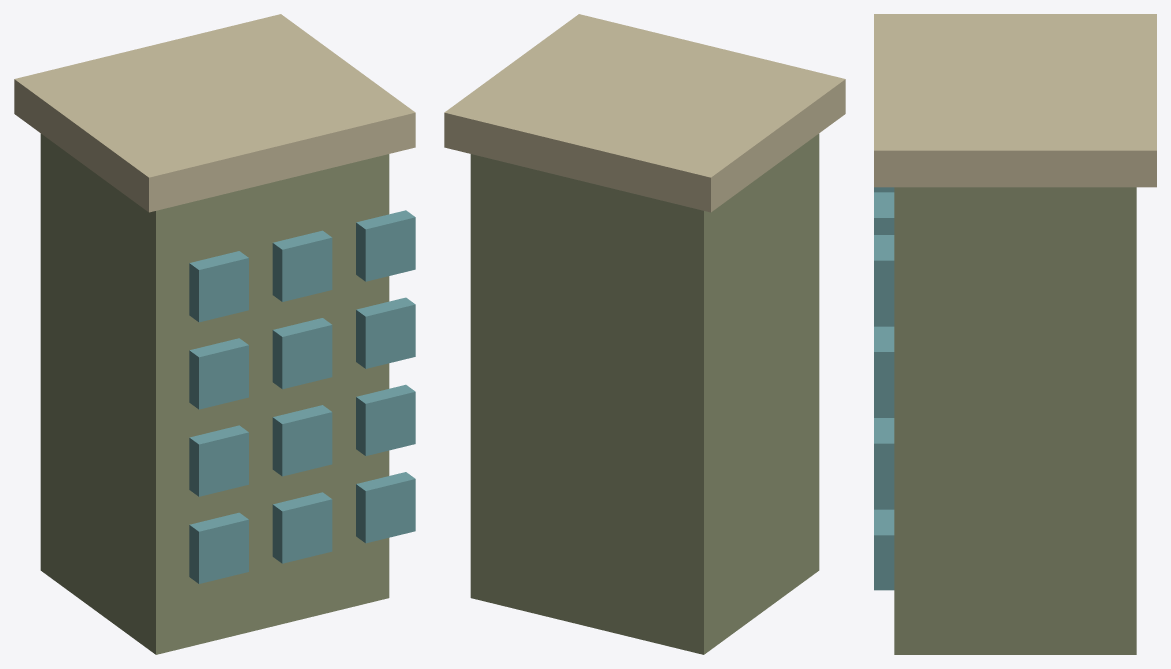
Rendered from property-02.glb.
3 renders of one model, left to right at view 1: azimuth 30°, elevation 25°; view 2: azimuth 150°, elevation 25°; view 3: azimuth 270°, elevation 25°, orthographic. The views are drawn at different scales.
Visible parts, largest first — view 1: Apartment tower; view 2: Apartment tower; view 3: Apartment tower.
Boxes of the visible parts, left/top/right/bottom form: Apartment tower: left=14, top=14, right=415, bottom=654; Apartment tower: left=444, top=14, right=845, bottom=654; Apartment tower: left=874, top=14, right=1156, bottom=654.
Bounding box in the file's own units: 1.28 × 2.24 × 1.12.
